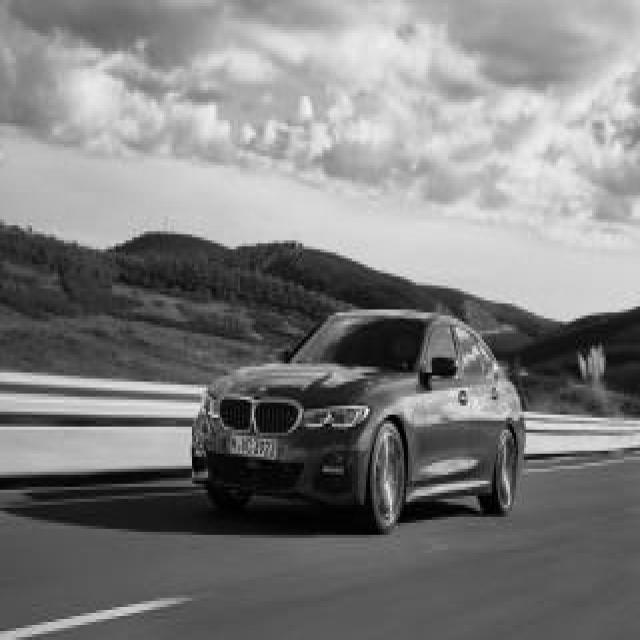Car: (192, 310, 524, 530)
